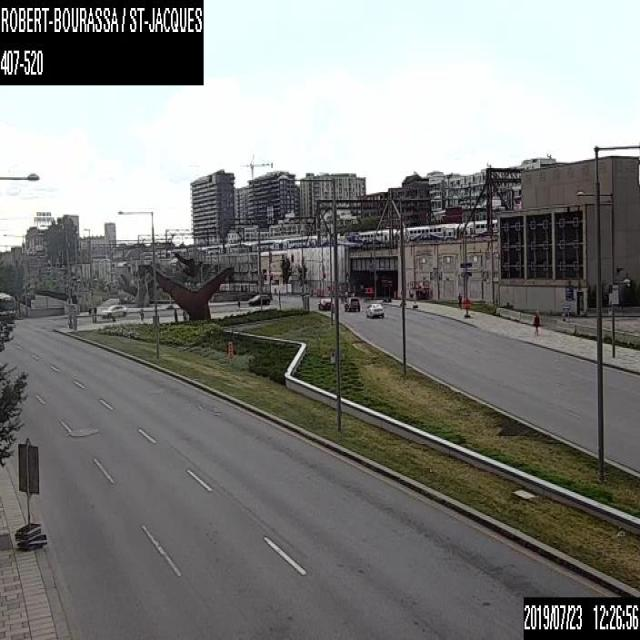bus: (0, 291, 15, 317)
pedestrian: (531, 308, 539, 336), (456, 290, 462, 310)
vehicle: (364, 300, 384, 319), (100, 303, 127, 317), (245, 292, 272, 305), (343, 293, 359, 312), (318, 295, 329, 309)
